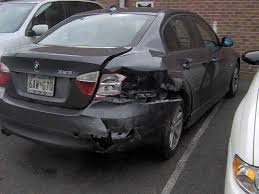Broken-glass: (77, 73, 137, 92)
Dent: (80, 111, 176, 155)
Smashed: (87, 68, 185, 108)
